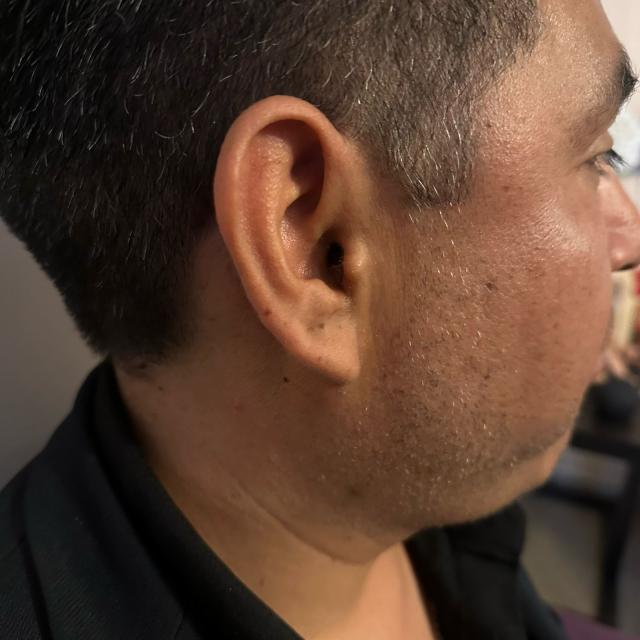ear: (214, 96, 361, 382)
